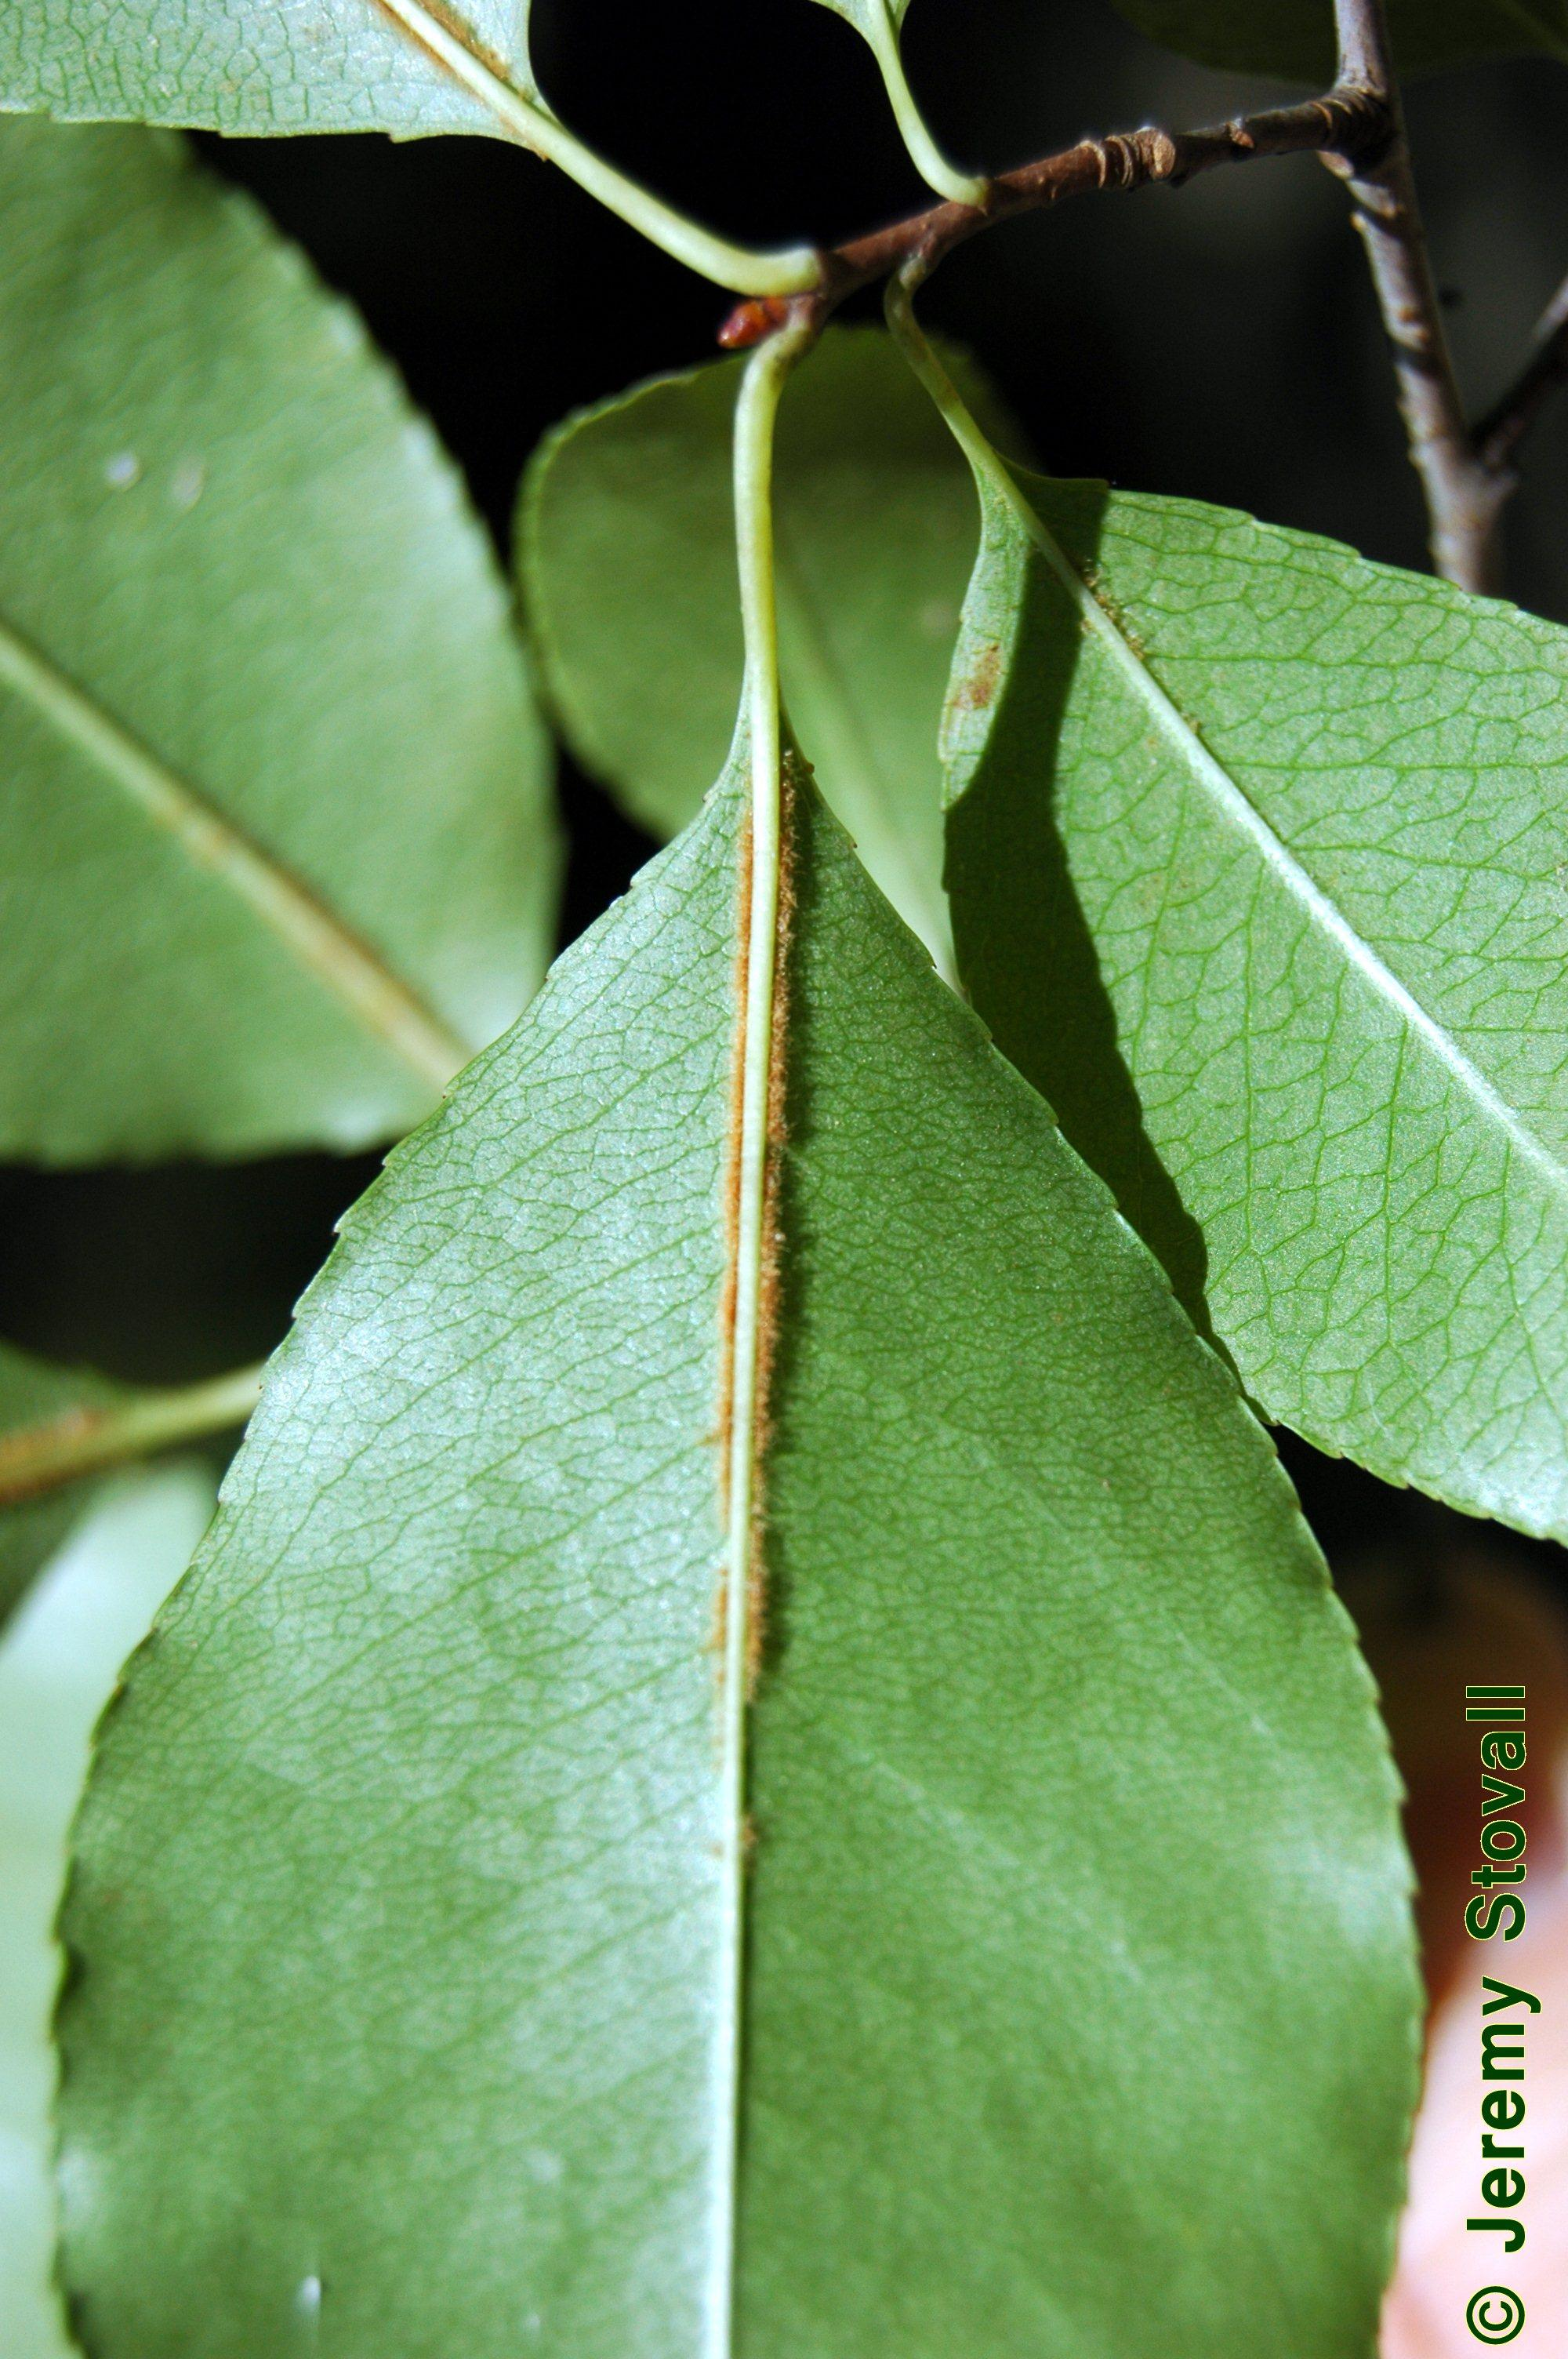Cherry leaf: (53, 707, 1442, 2359)
